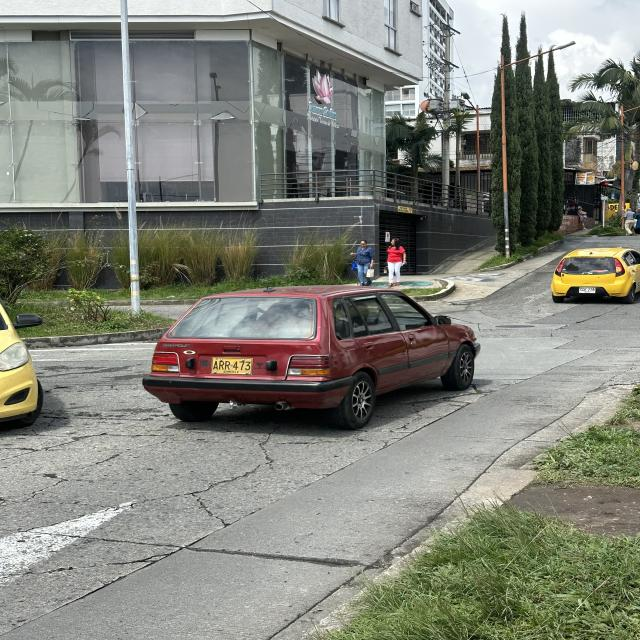number plate: (211, 357, 252, 375)
